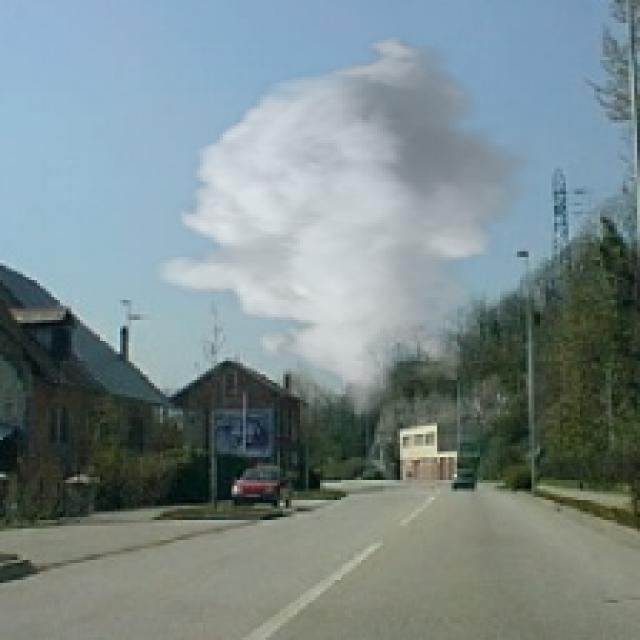smoke: (151, 32, 540, 417)
